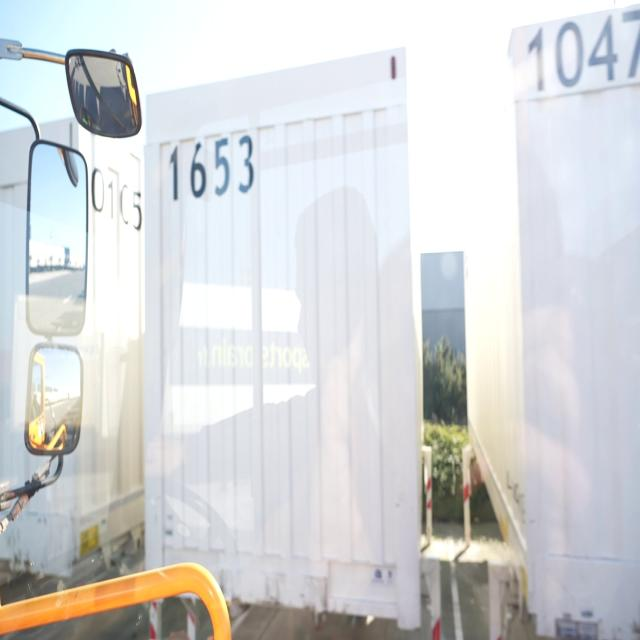Code: (526, 6, 640, 97), (167, 129, 260, 205)
